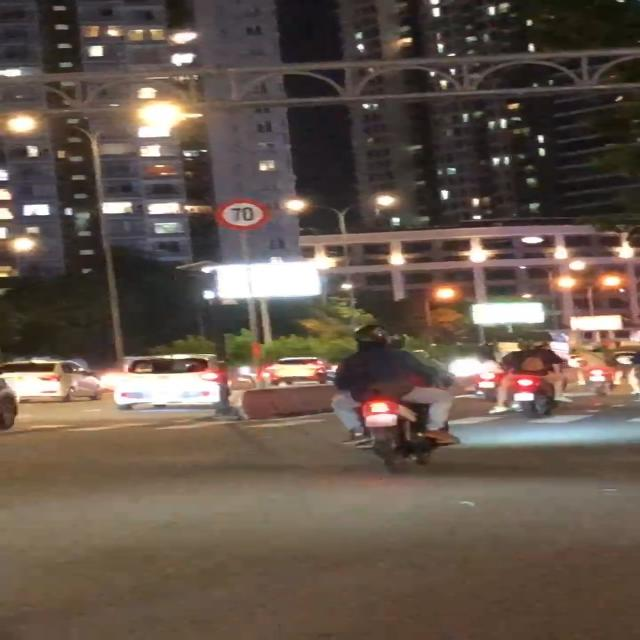Bien bao toc do toi da cho phep: (212, 196, 277, 233)
